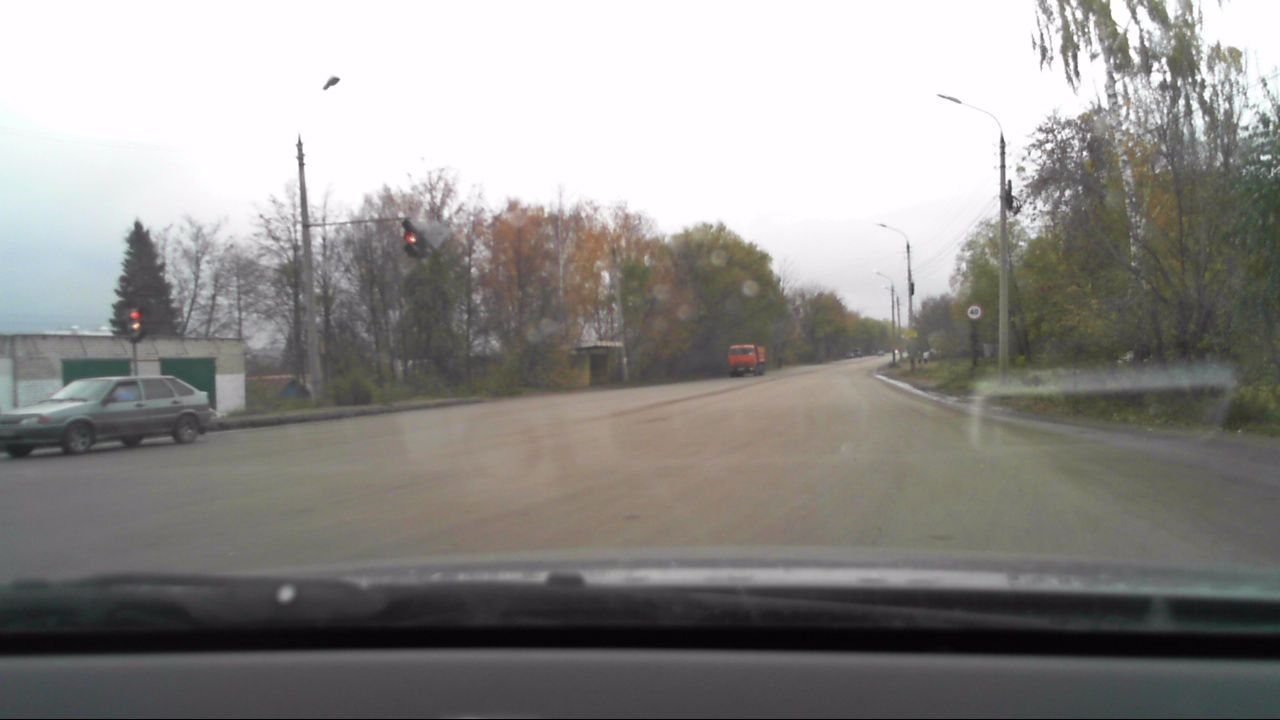speed_warning_40: (965, 303, 983, 320)
